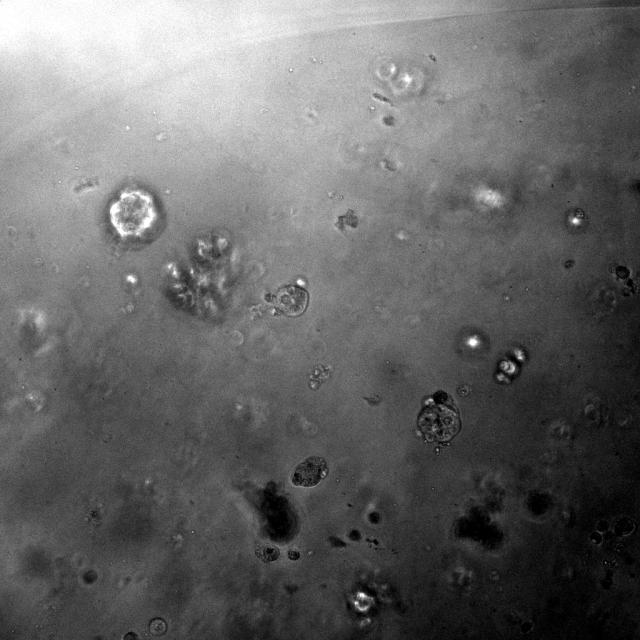organoid: (453, 421, 572, 550), (164, 229, 237, 321), (238, 480, 300, 544), (104, 183, 164, 248), (416, 390, 461, 454), (262, 284, 309, 316), (590, 517, 636, 544), (496, 345, 528, 383), (291, 456, 328, 487), (614, 265, 638, 297), (309, 364, 333, 390), (334, 209, 358, 230), (255, 545, 279, 562), (149, 618, 167, 636), (82, 569, 98, 584), (328, 535, 346, 548), (366, 510, 382, 524), (348, 529, 362, 541), (287, 549, 300, 560), (122, 631, 139, 639)
